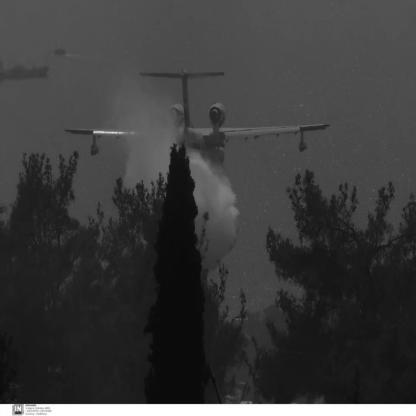Be200: (64, 70, 331, 164)
